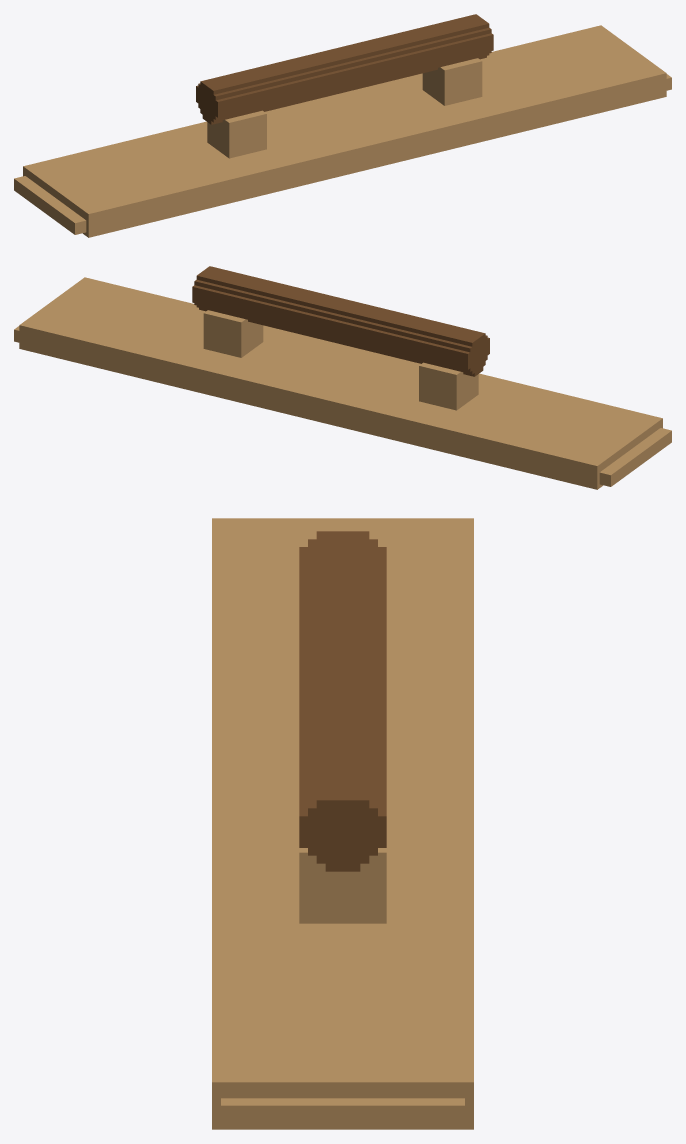
The model's file is wood_smoother.glb.
The picture shows the model from 3 angles, top to bottom: view 1: azimuth 30°, elevation 25°; view 2: azimuth 150°, elevation 25°; view 3: azimuth 270°, elevation 25°; orthographic projection. The views are drawn at different scales.
Parts seen in each view (by area): view 1: wood_smoother:compound; view 2: wood_smoother:compound; view 3: wood_smoother:compound.
Boxes of the visible parts, bbox=[...] form: wood_smoother:compound: bbox=[14, 14, 671, 237]; wood_smoother:compound: bbox=[14, 266, 671, 489]; wood_smoother:compound: bbox=[212, 518, 473, 1129].
Bounding box in the file's own units: 0.632 × 0.092 × 0.12.
